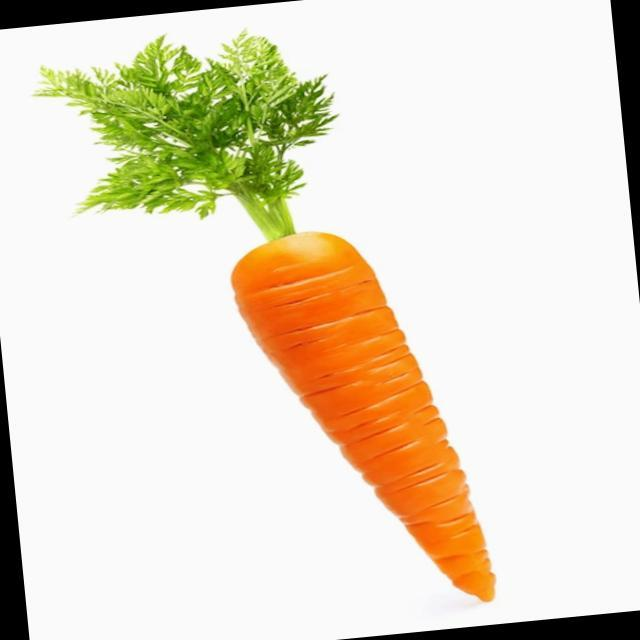carrot: (41, 34, 495, 601)
